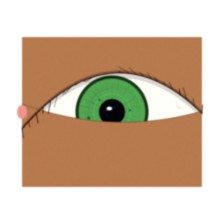hemorrhage_spot: (83, 76, 148, 128)
